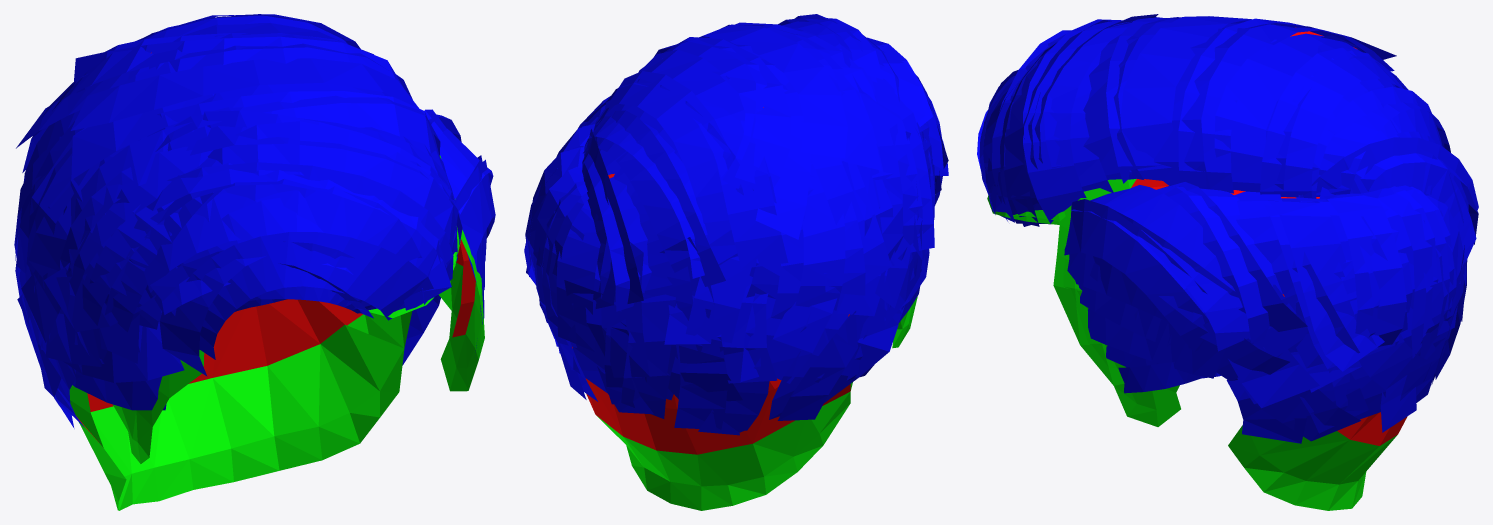
Rendered from hair_002.obj.
3 views of the same model, side by side, from view 1: azimuth 30°, elevation 25°; view 2: azimuth 150°, elevation 25°; view 3: azimuth 270°, elevation 25° (orthographic). The views are drawn at different scales.
Size of the model in its own units: 18.91 by 21.28 by 21.25.
